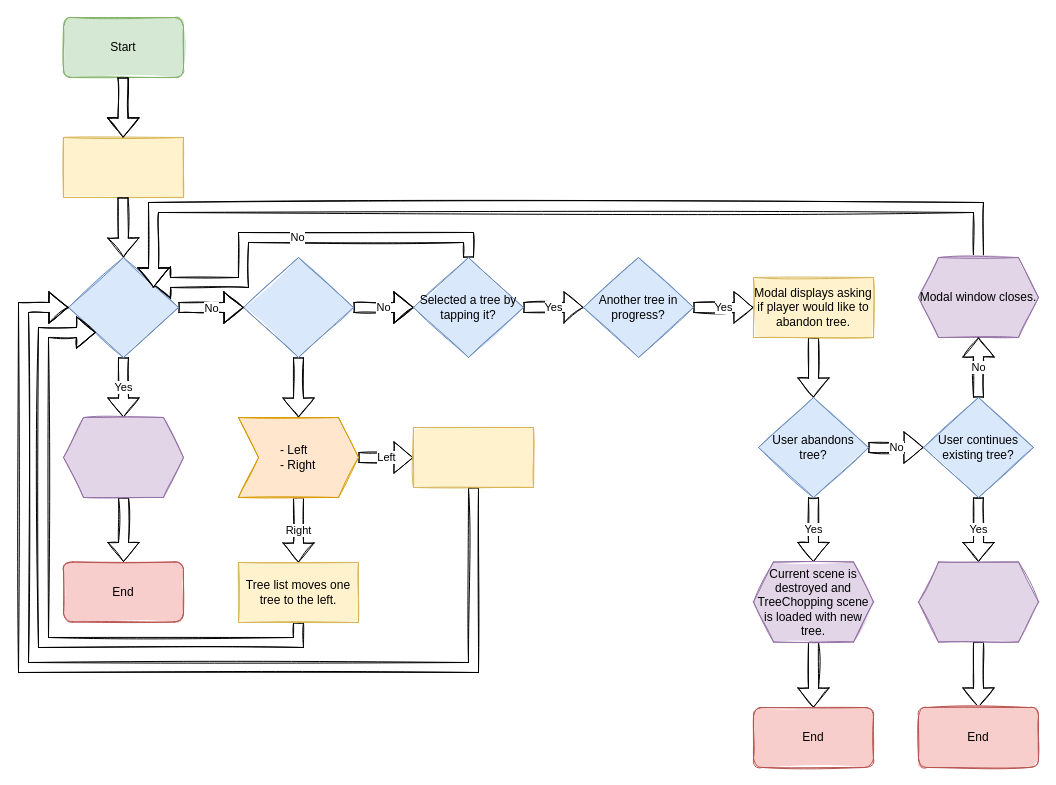
Image size: 1056x785. Some labels were removed from this diagram. The centre of each missing label's shape, as x and y in pixels:
"Current scene is destroyed and GameplayBase scene loads." belongs at point (123, 457).
"Current scene is destroyed and TreeChopping scene is loaded with existing tree." belongs at point (978, 601).
"Presses back button?" belongs at point (123, 307).
"Scrollable line of trees with hardness rating appear in the screen." belongs at point (123, 167).
"Scrolls left or right by swiping or tapping arrows?" belongs at point (298, 307).
"Tree list moves one tree to the right." belongs at point (473, 457).
